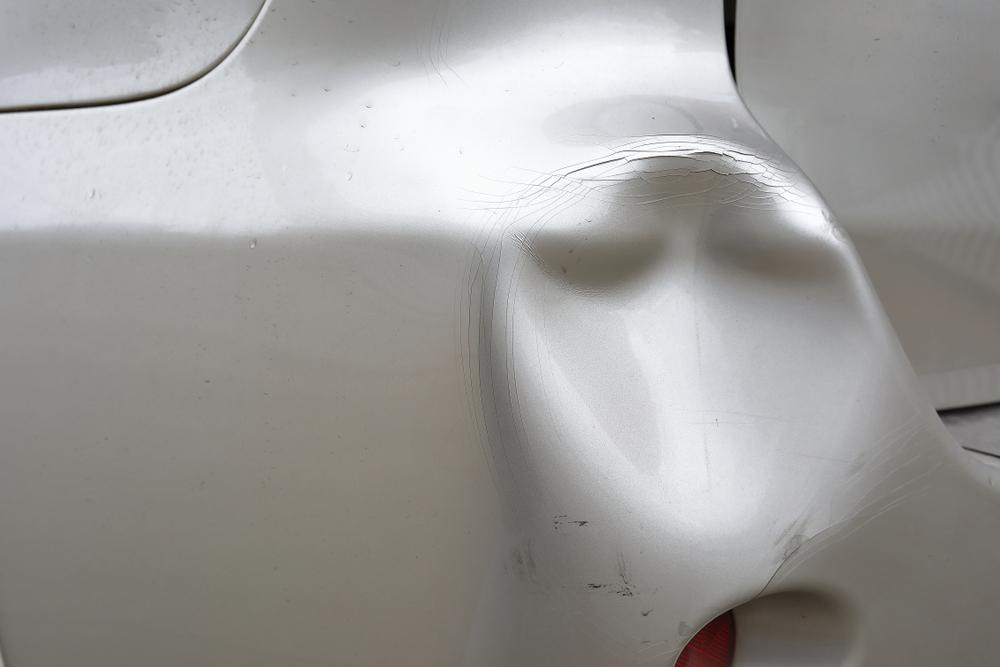dent: (490, 141, 868, 559)
